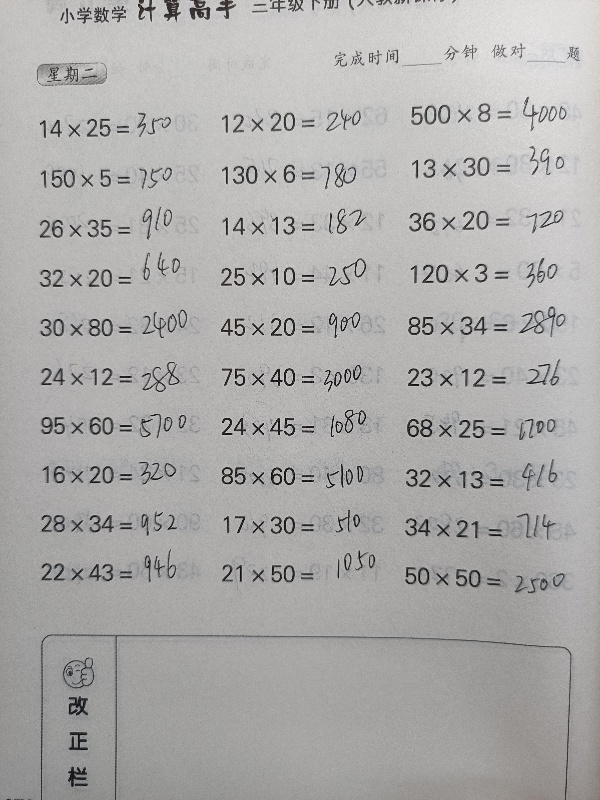equation: (402, 87, 582, 136), (32, 356, 212, 403), (399, 299, 579, 346), (31, 306, 211, 350), (213, 358, 393, 401), (31, 251, 211, 294), (212, 156, 392, 197), (32, 504, 212, 544), (212, 457, 392, 497), (33, 406, 213, 446), (31, 105, 211, 145), (34, 454, 214, 493), (31, 160, 211, 197), (212, 104, 392, 141), (400, 202, 580, 238), (403, 149, 583, 185), (396, 559, 576, 594), (399, 360, 579, 395), (33, 555, 213, 589), (396, 510, 576, 544), (396, 461, 576, 495), (397, 411, 577, 445), (213, 410, 393, 444), (212, 310, 392, 344), (211, 259, 391, 293), (402, 256, 582, 290), (30, 212, 210, 246), (215, 209, 395, 243), (214, 557, 394, 590), (214, 508, 394, 541)
